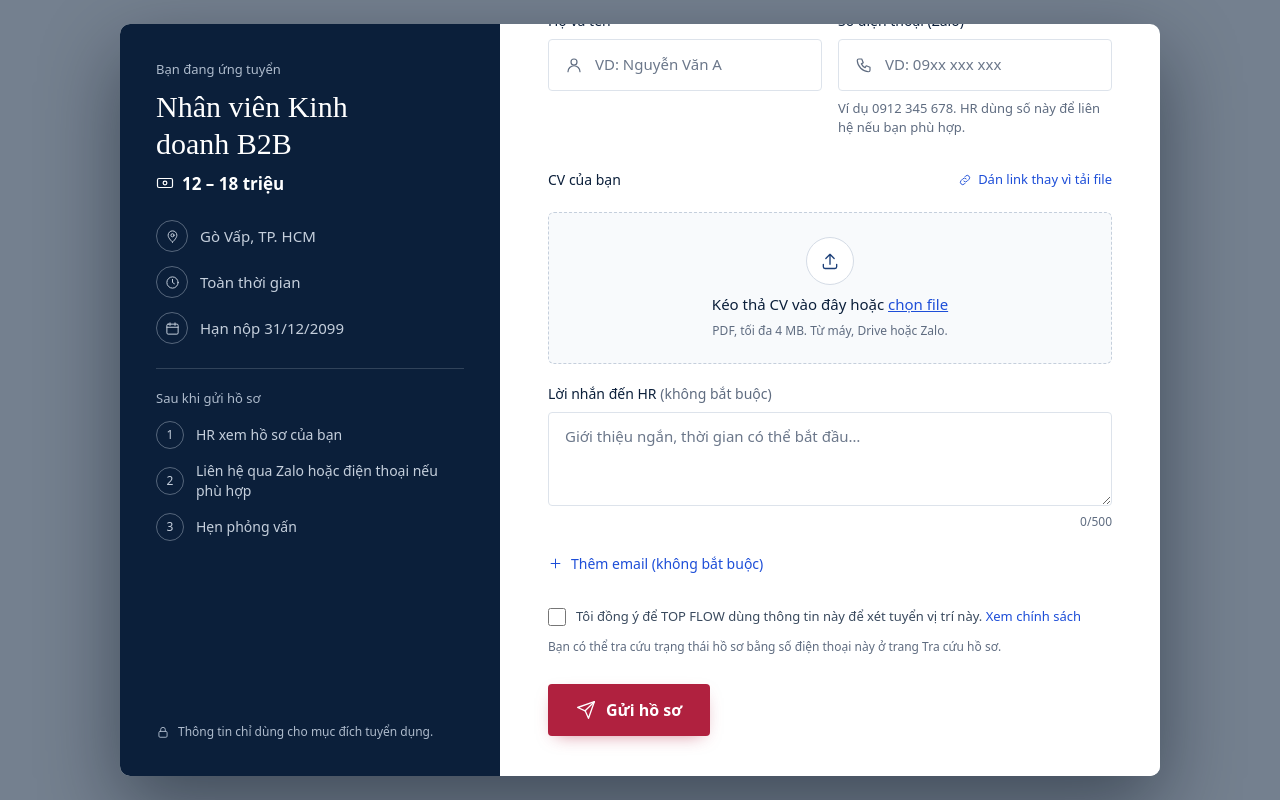
Test: ApplyDialog › will not send without name, phone, CV and consent, and asks for each in plain words
(page scrolled)
Click the button "Gửi hồ sơ" at (629, 710), box [548,684,710,736]
(page scrolled)
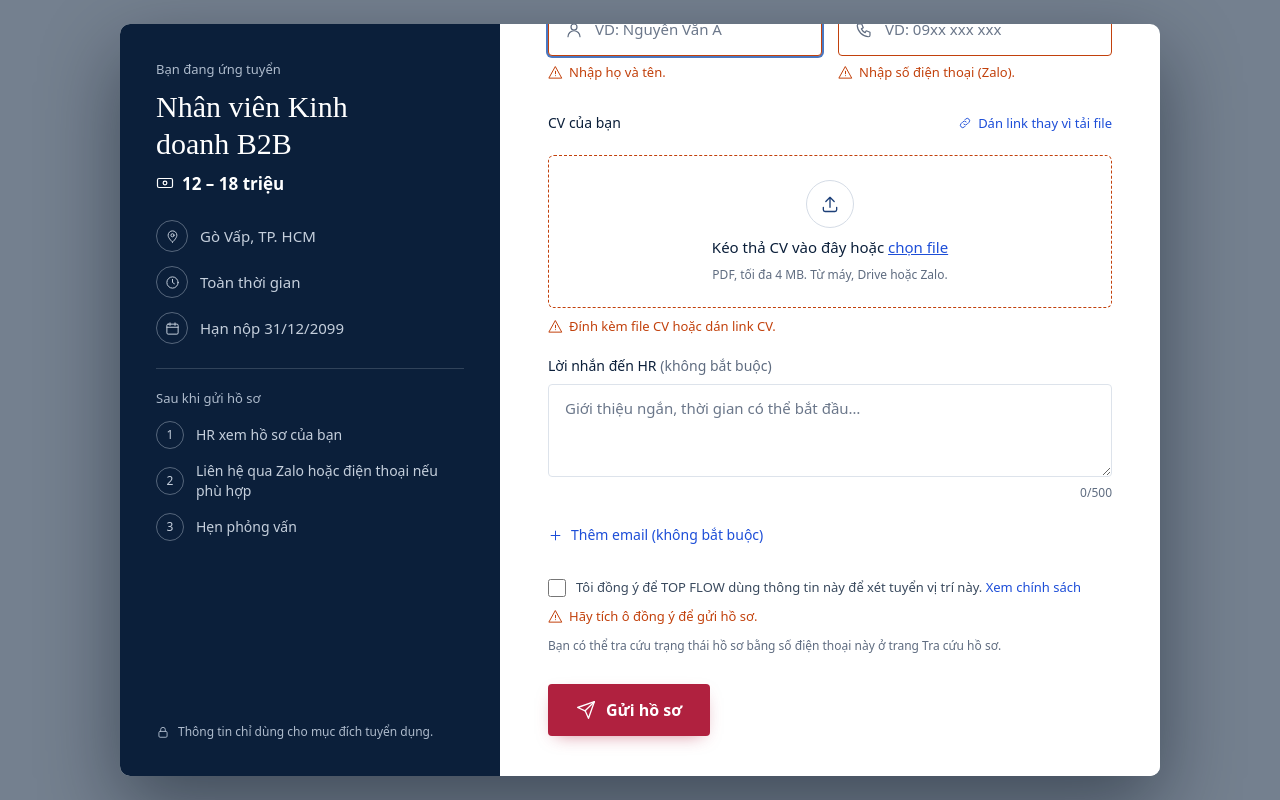
Now the text "Nhập họ và tên." is shown, box [569,64,666,81]
Now the text "Nhập số điện thoại (Zalo)." is shown, box [859,64,1015,81]
Now the text "Đính kèm file CV hoặc dán link CV." is shown, box [569,318,776,336]
